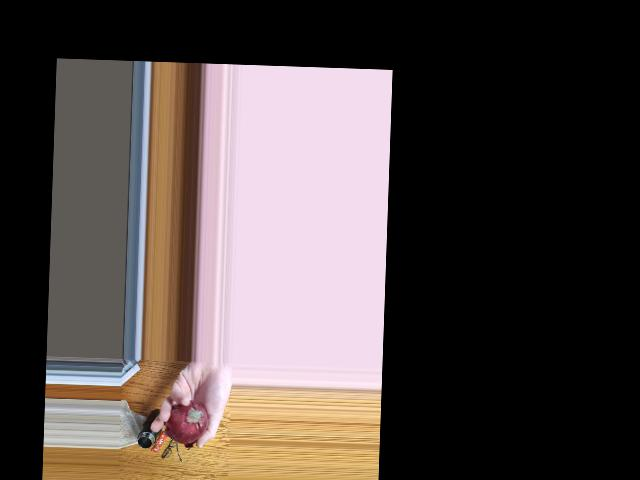onion: (172, 400, 208, 442)
